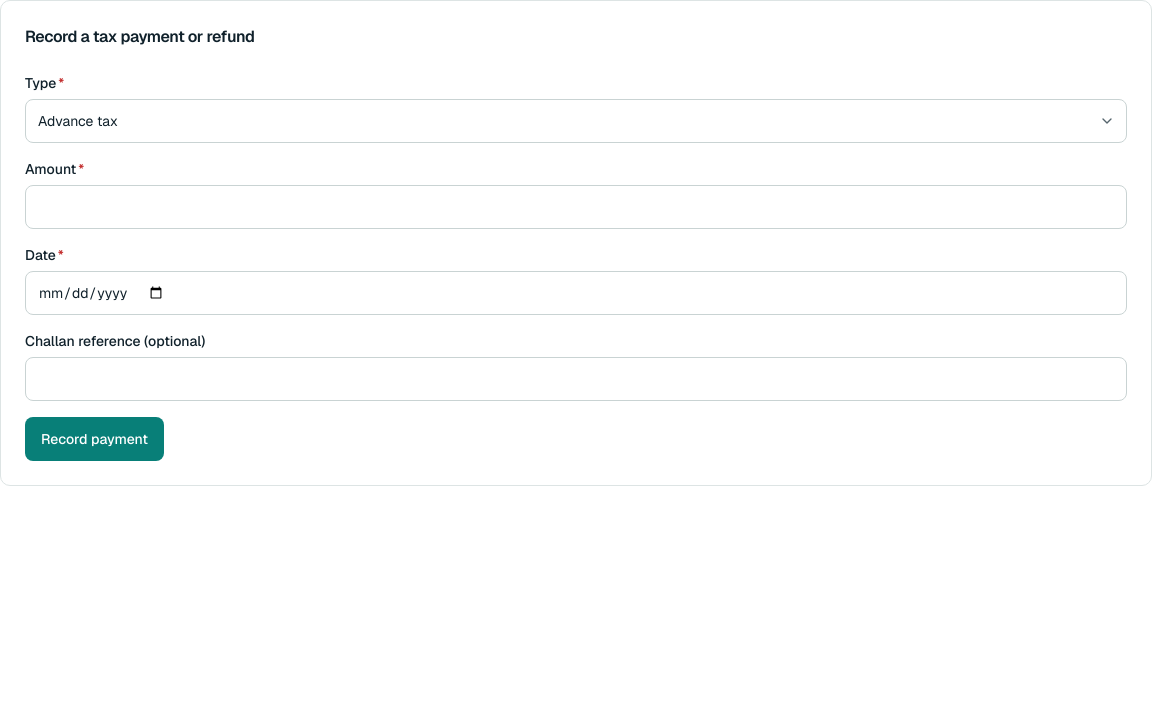
it: TaxPaymentForm — payment types › shows a validation error for an invalid amount/date/reference
The width and height of the screenshot is (1152, 720).
Click the button "Record payment" at (94,439), box [25,417,164,461]
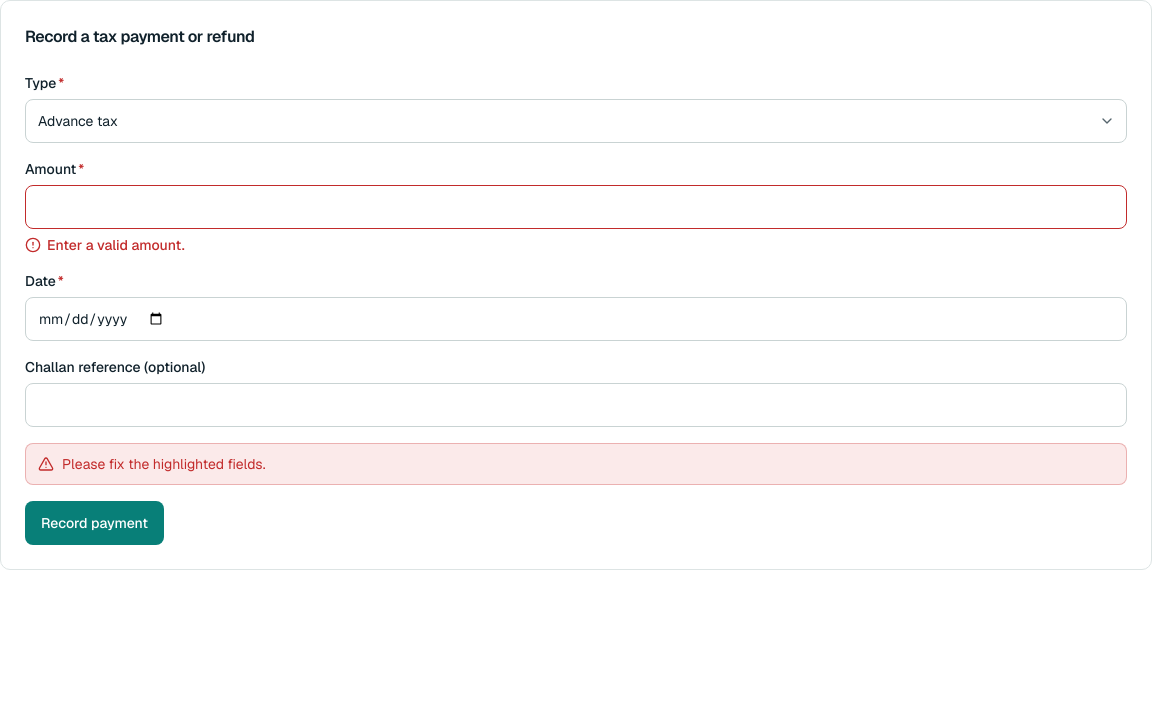
Result: the text "Enter a valid amount." is shown at [25,236,185,254]
